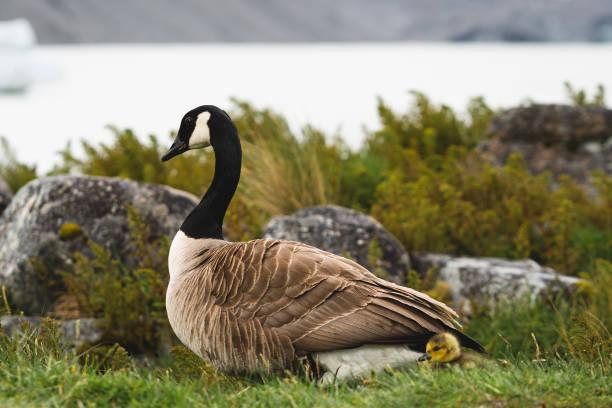Canadian-Goose: (159, 104, 476, 382)
